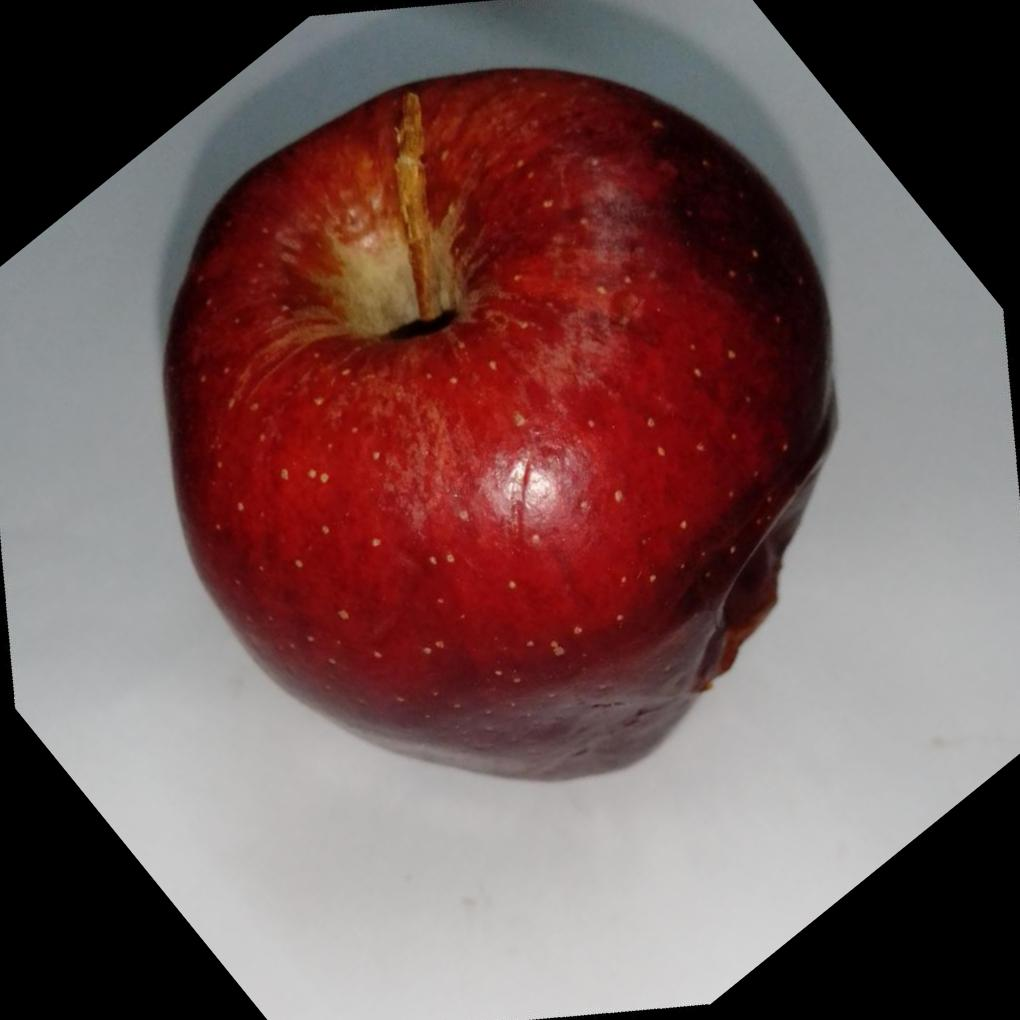FreshOrange: (157, 65, 838, 787)
